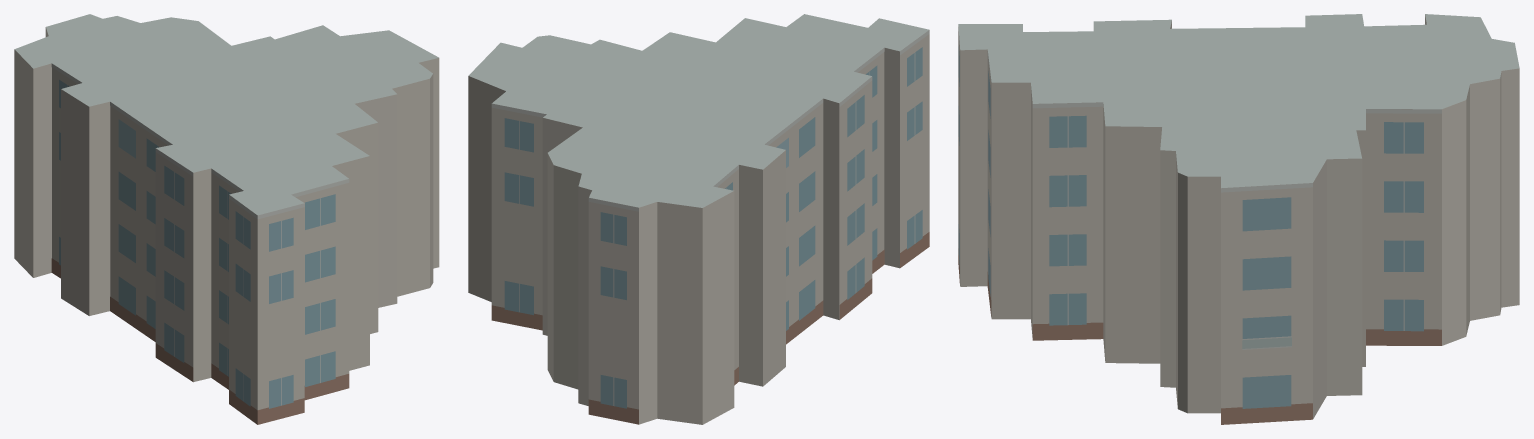
File: survey-upis-33028383.glb
The picture shows the model from 3 angles, left to right: view 1: azimuth 30°, elevation 25°; view 2: azimuth 150°, elevation 25°; view 3: azimuth 270°, elevation 25°; orthographic projection. The views are drawn at different scales.
Visible parts, largest first — view 1: survey-upis-33028383.tmp; view 2: survey-upis-33028383.tmp; view 3: survey-upis-33028383.tmp.
Part boxes in pixels (x1=…): survey-upis-33028383.tmp: x1=14, y1=14, x2=439, y2=424; survey-upis-33028383.tmp: x1=468, y1=14, x2=929, y2=424; survey-upis-33028383.tmp: x1=958, y1=14, x2=1519, y2=424.
Bounding box in the file's own units: 20.52 × 13 × 27.95.
